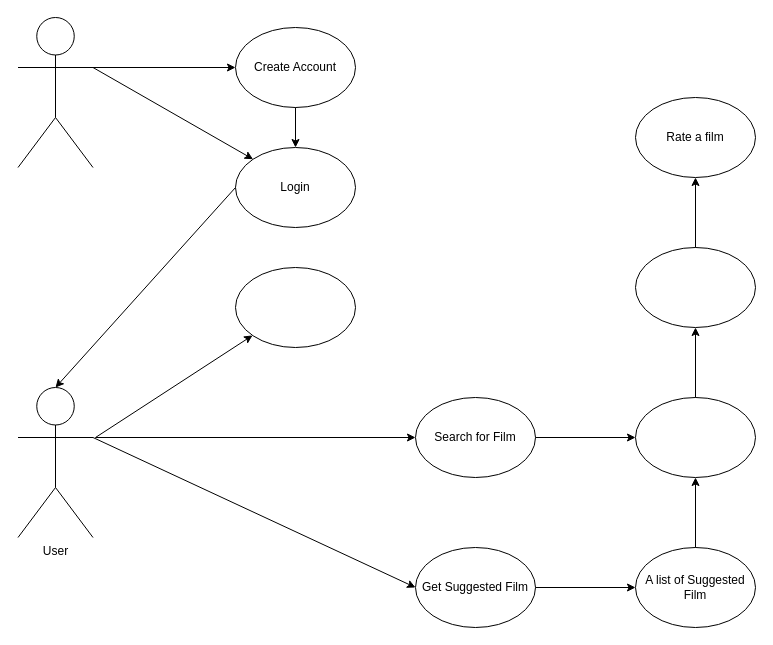
Some shapes in this 773 by 645 pixel diagram are drawn without their labels. The shapes that lost their labels are listed below. From the top down, each one's centre as x and y in pixels, then its label:
(x=55, y=92): Guess
(x=295, y=307): Logout
(x=695, y=287): See the film page
(x=695, y=437): See a list of films
